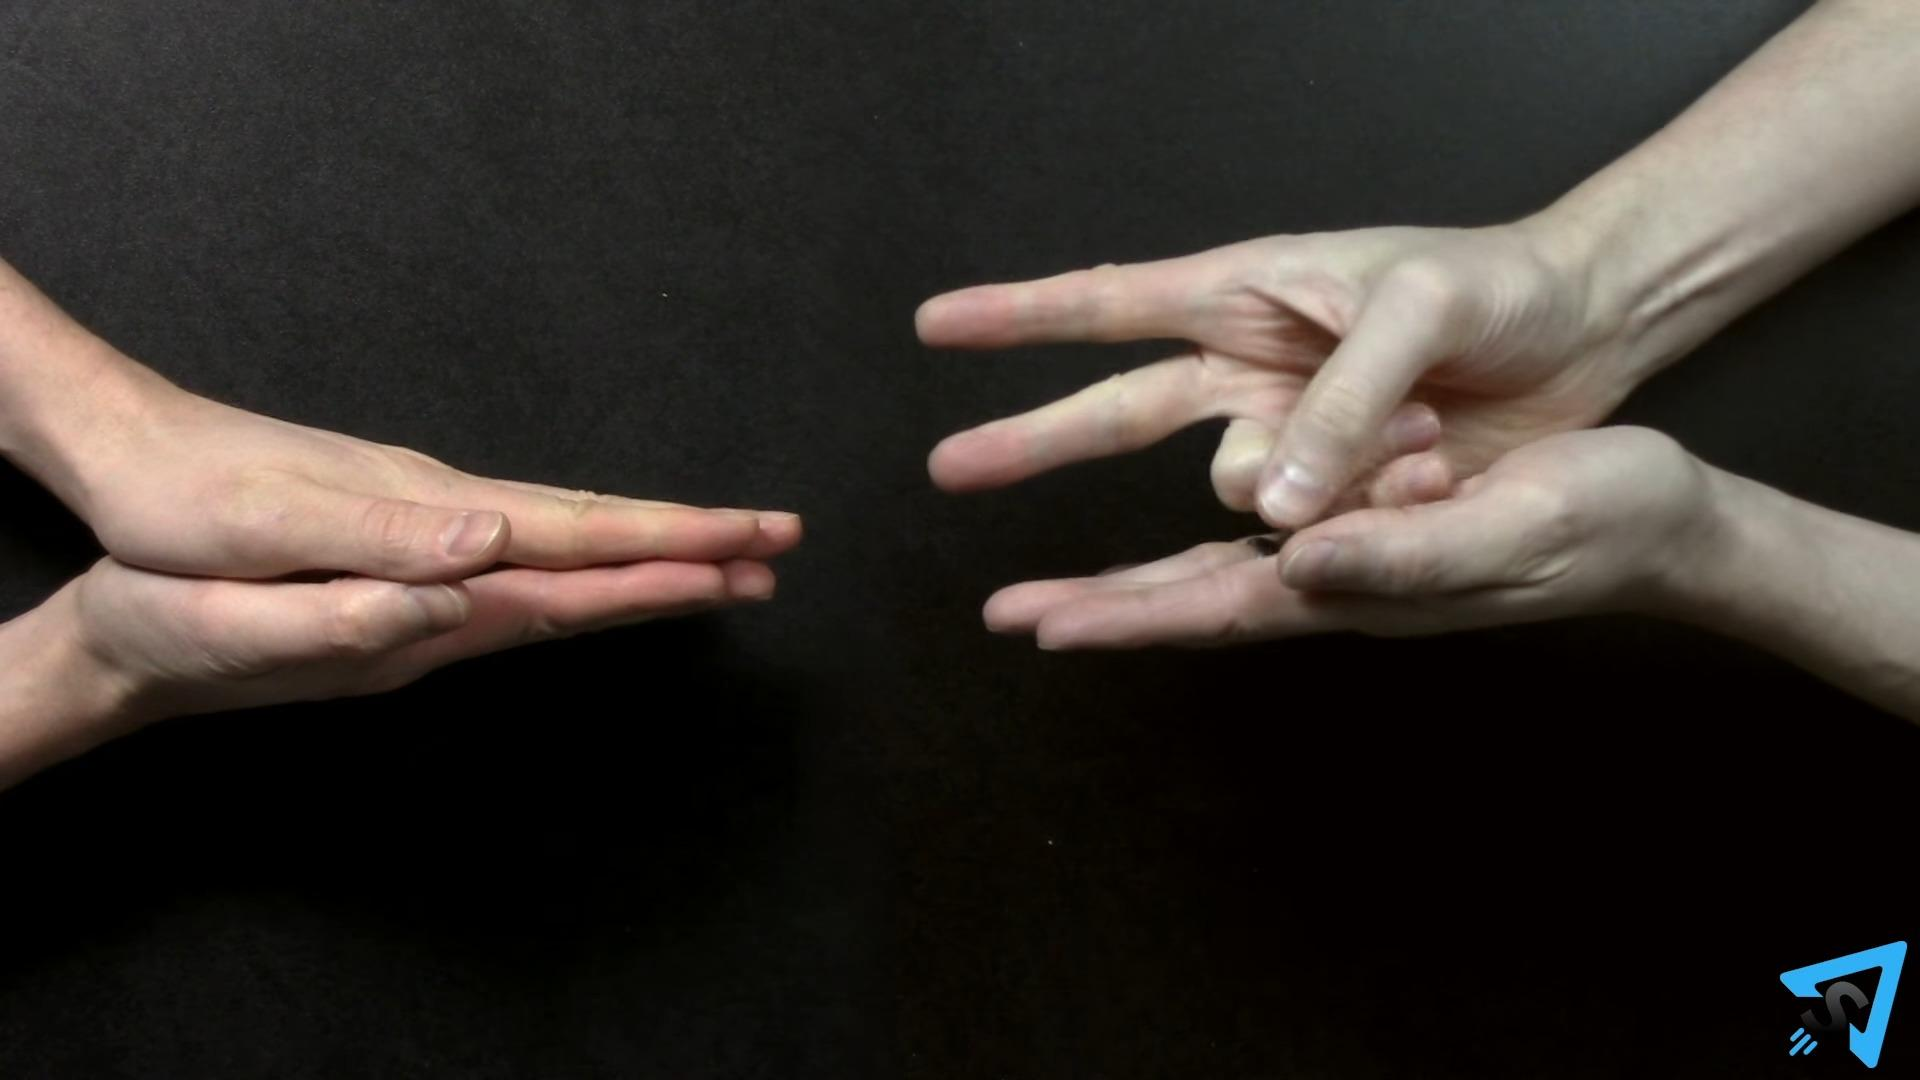Paper: (87, 407, 806, 583)
Scissors: (910, 223, 1629, 521)
